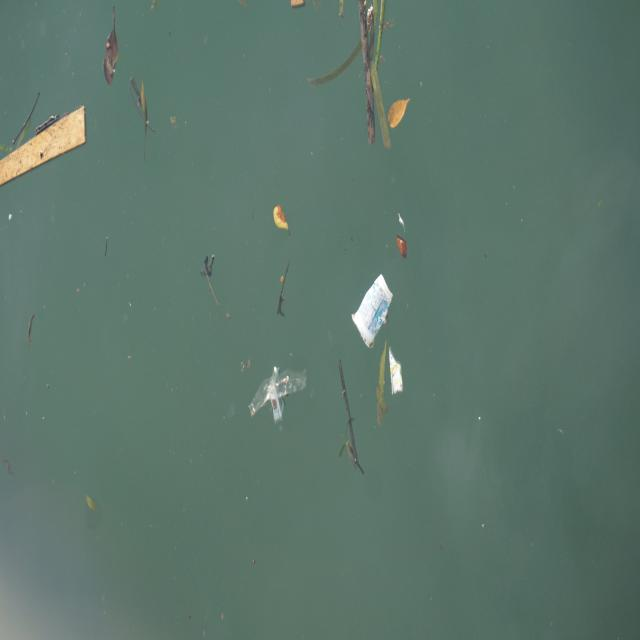Bungkus Minuman: (346, 271, 398, 349)
Kantong Plastik: (249, 361, 311, 433)
